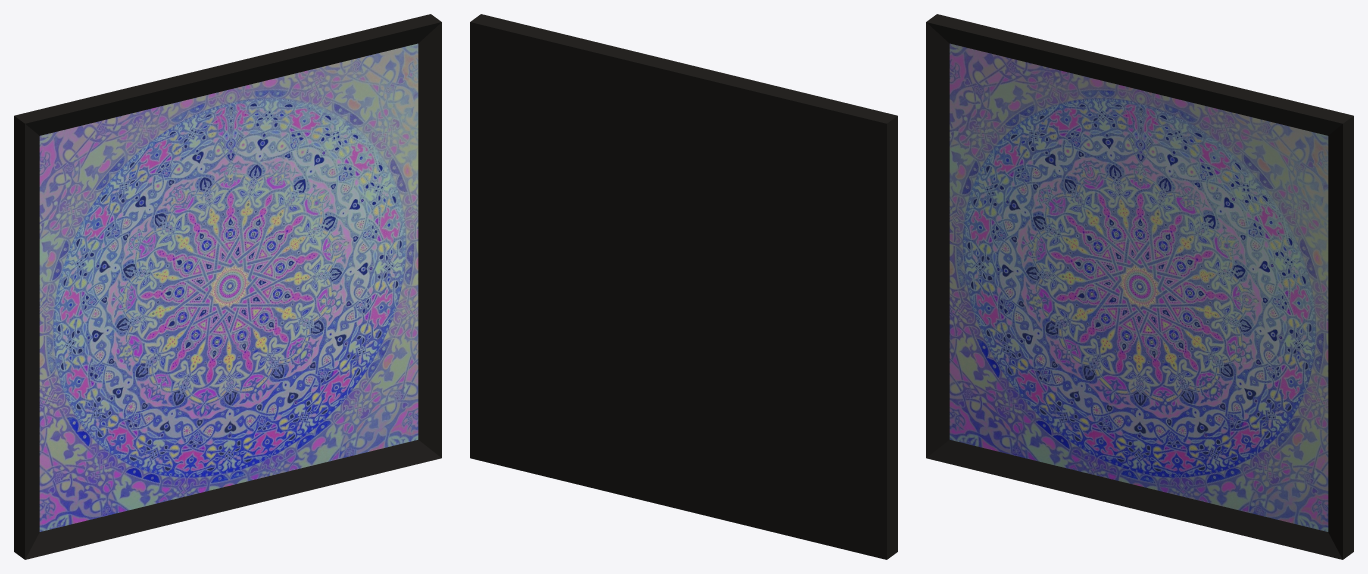
The model's file is tridecagon-moon-star-tridecagon-supernova-violet-a1-stained-black-v2.glb.
3 renders of one model, left to right at view 1: azimuth 30°, elevation 25°; view 2: azimuth 150°, elevation 25°; view 3: azimuth 330°, elevation 25°, orthographic.
Parts seen in each view (by area): view 1: FramedPrint; view 2: FramedPrint; view 3: FramedPrint.
Boxes of the visible parts, bbox=[...] form: FramedPrint: bbox=[14, 14, 441, 559]; FramedPrint: bbox=[470, 14, 897, 559]; FramedPrint: bbox=[926, 14, 1353, 559].
Size of the model in its own units: 0.655 by 0.655 by 0.03.
2 materials, 1 textured.
